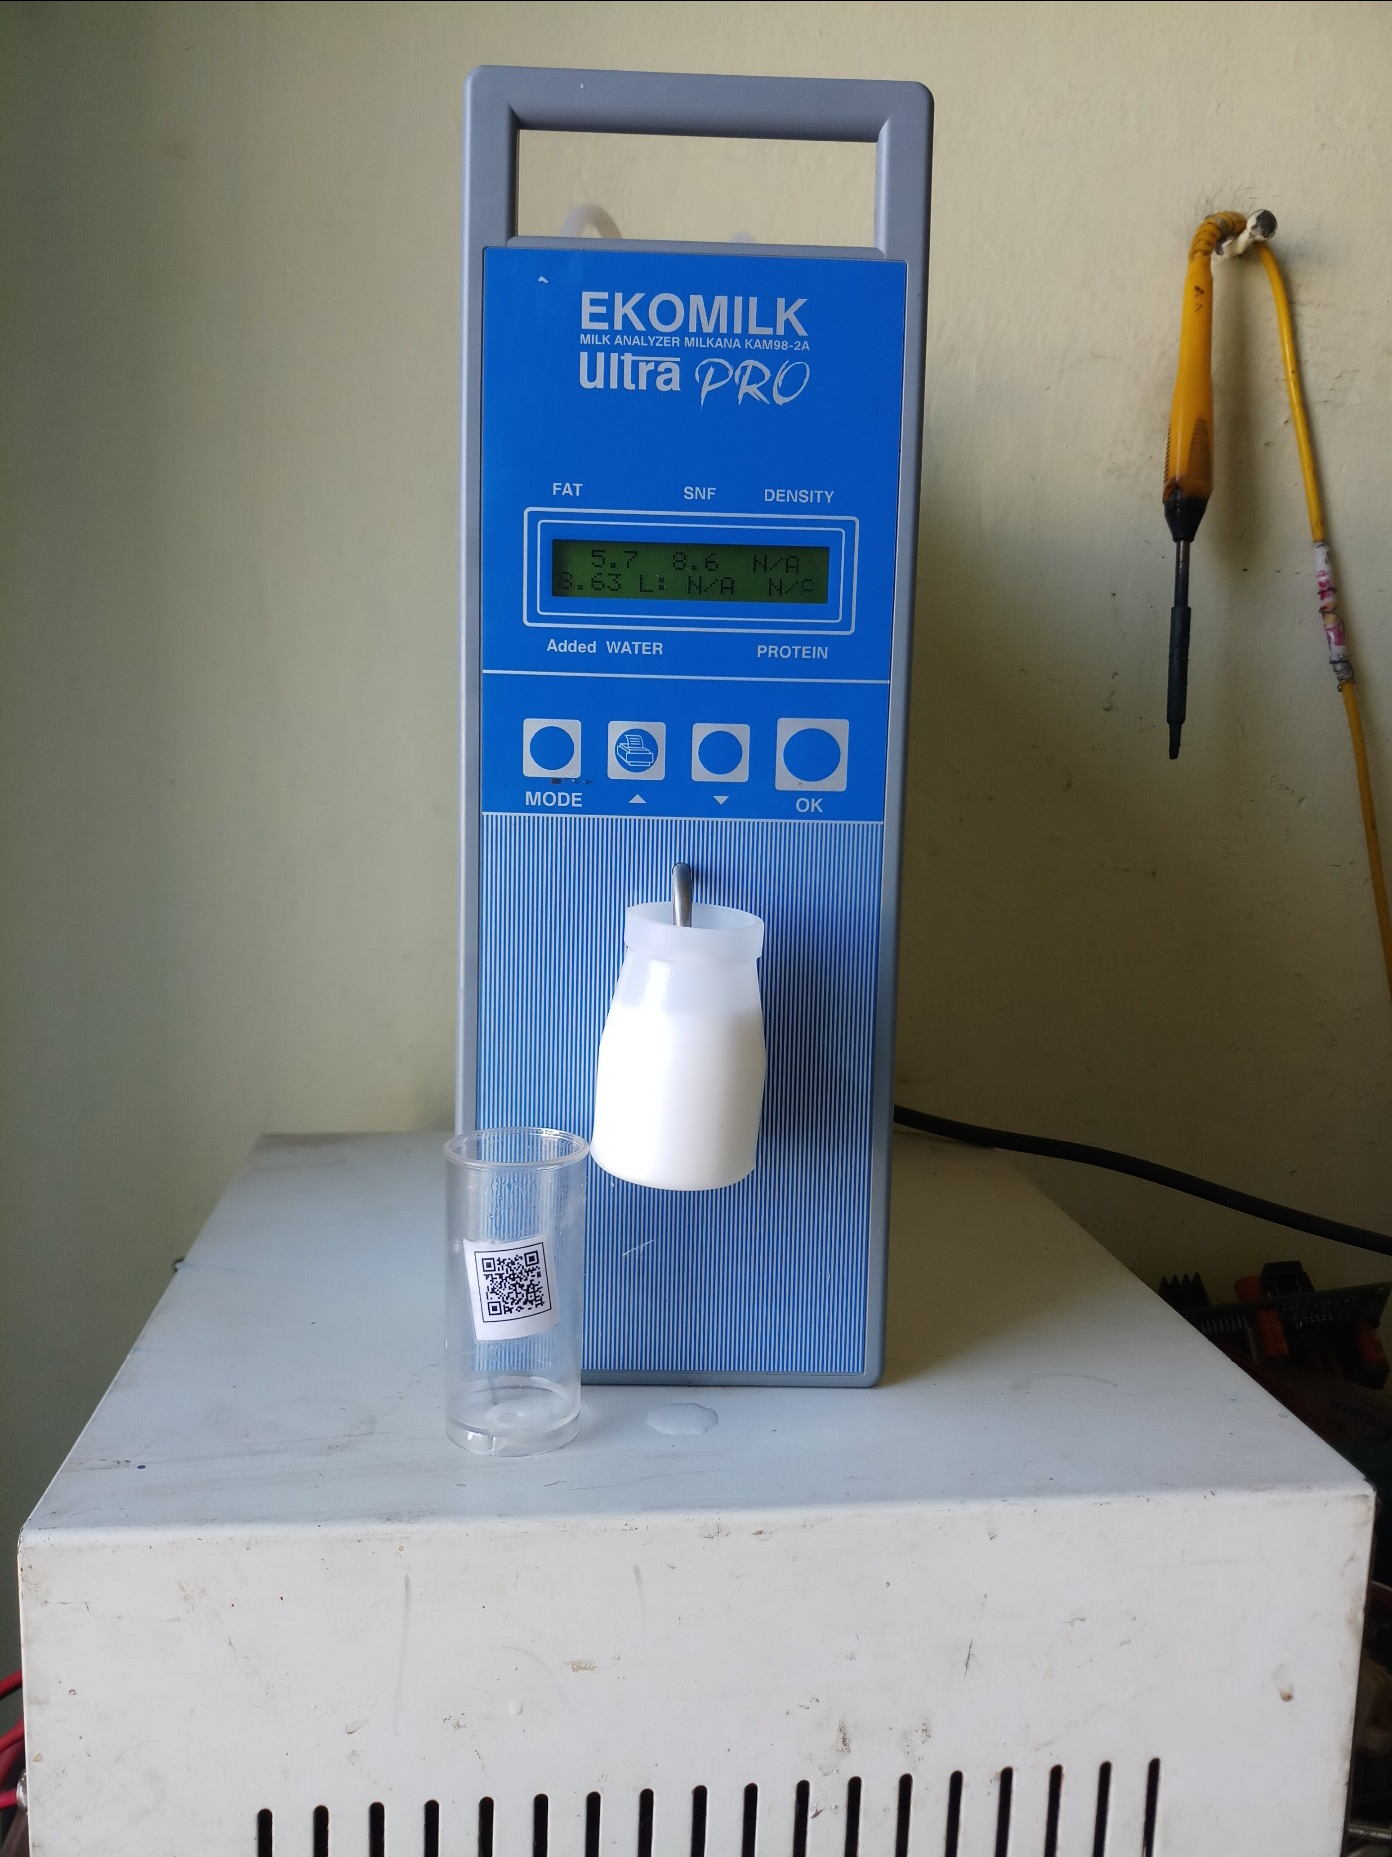lcd: (537, 522, 839, 611)
qr: (464, 1238, 563, 1325)
